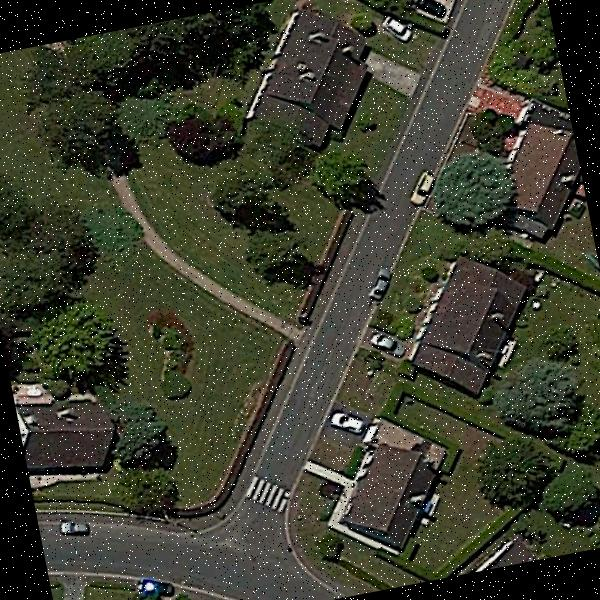Buildings: (241, 10, 380, 144), (409, 253, 525, 379), (344, 424, 445, 554), (503, 102, 592, 240), (17, 398, 113, 478)
